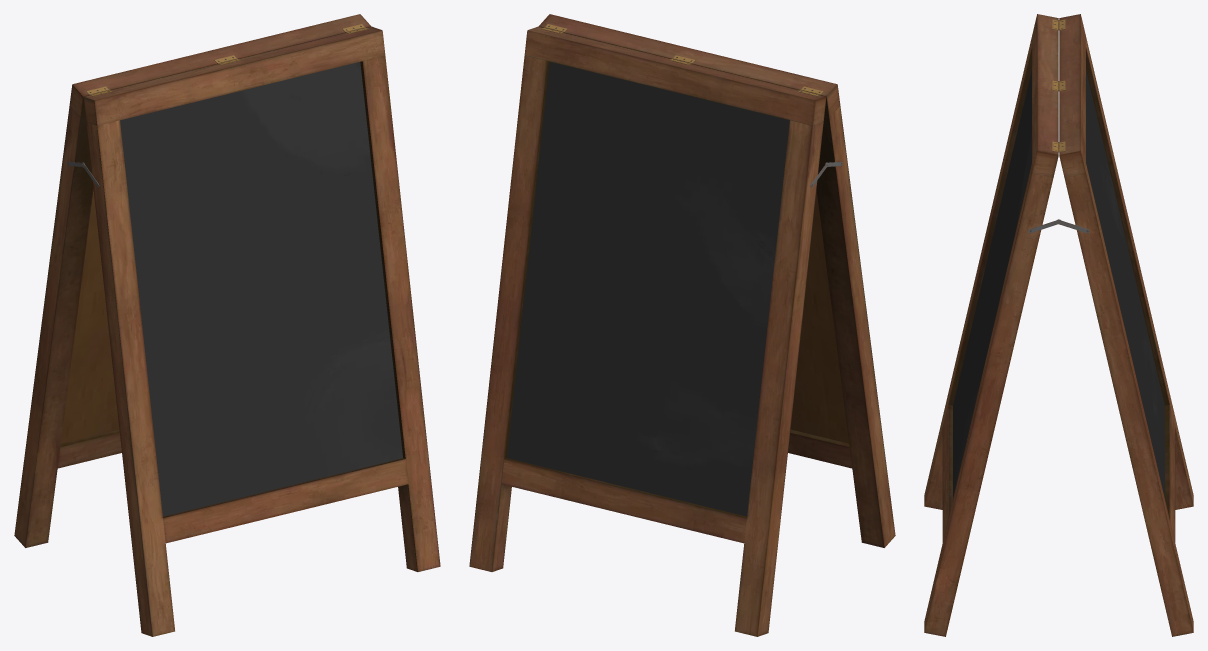
File: standing_chalkboard_01.glb
The picture shows the model from 3 angles, left to right: view 1: azimuth 30°, elevation 25°; view 2: azimuth 150°, elevation 25°; view 3: azimuth 270°, elevation 25°; orthographic projection. The views are drawn at different scales.
Parts seen in each view (by area): view 1: standing_chalkboard_01; view 2: standing_chalkboard_01; view 3: standing_chalkboard_01.
Boxes of the visible parts, <box> form: standing_chalkboard_01: <box>14,14,440,636</box>; standing_chalkboard_01: <box>469,14,895,636</box>; standing_chalkboard_01: <box>924,14,1193,636</box>.
Size of the model in its own units: 0.9195 by 1.51 by 0.7587.
Materials: 2 (2 with a texture image).
